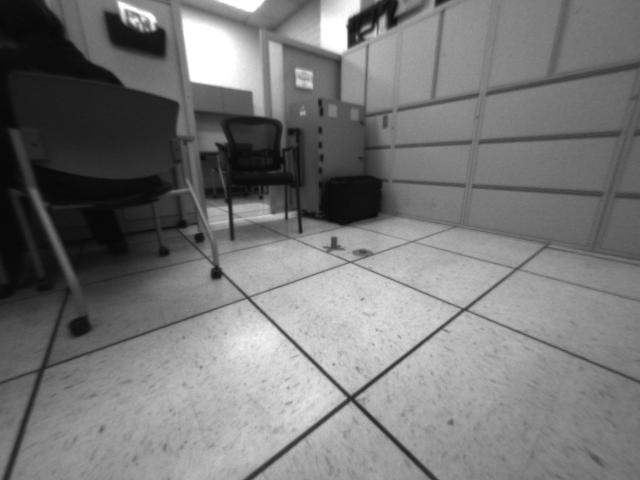X: (321, 233, 347, 254)
